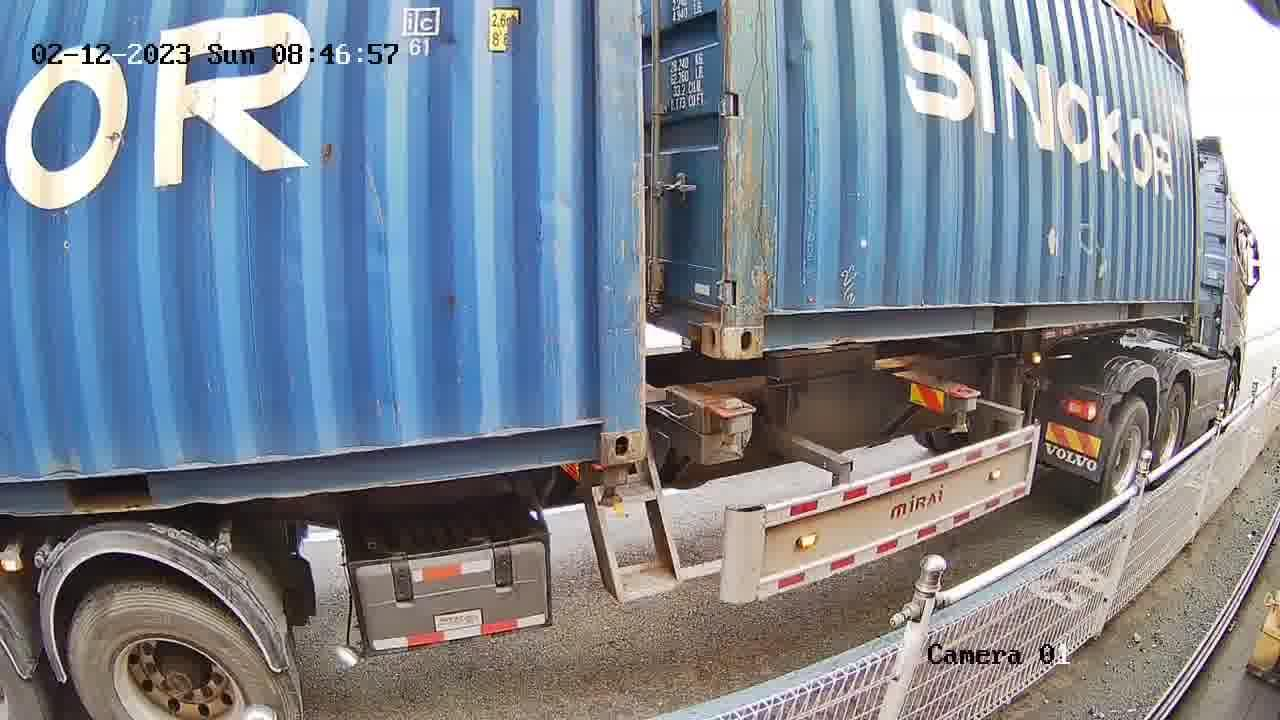Cone: (708, 401, 753, 454), (594, 467, 631, 507)
Hole_L: (723, 285, 801, 360)
Hole_R: (560, 401, 644, 467), (679, 288, 723, 361)
Tire: (71, 588, 285, 719), (1100, 400, 1150, 517), (1149, 386, 1186, 483)
